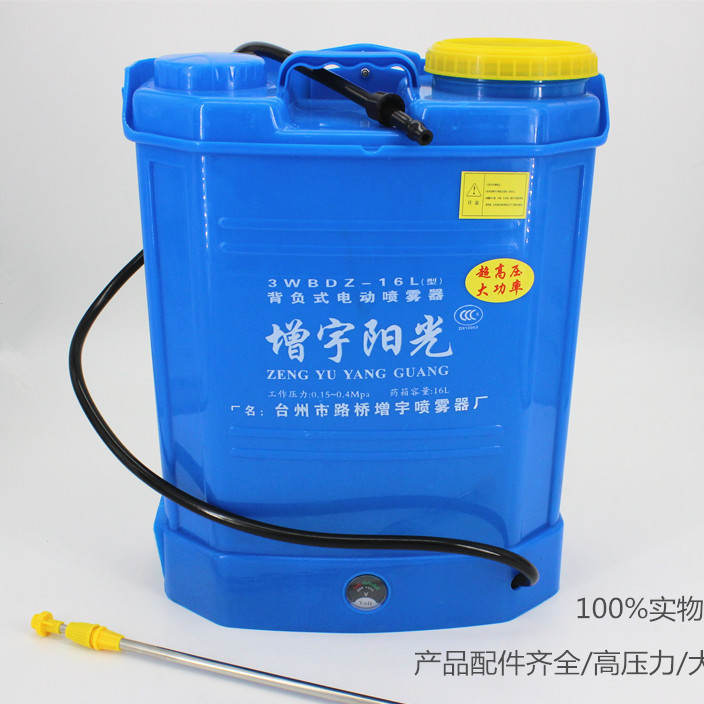berrl: (109, 34, 602, 620)
